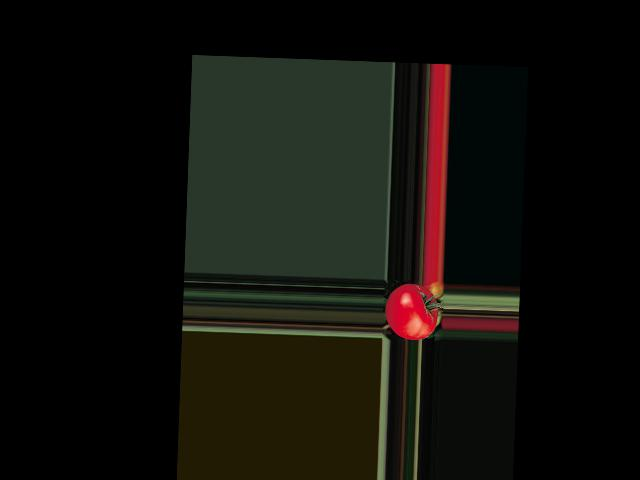tomato: (383, 283, 438, 340)
